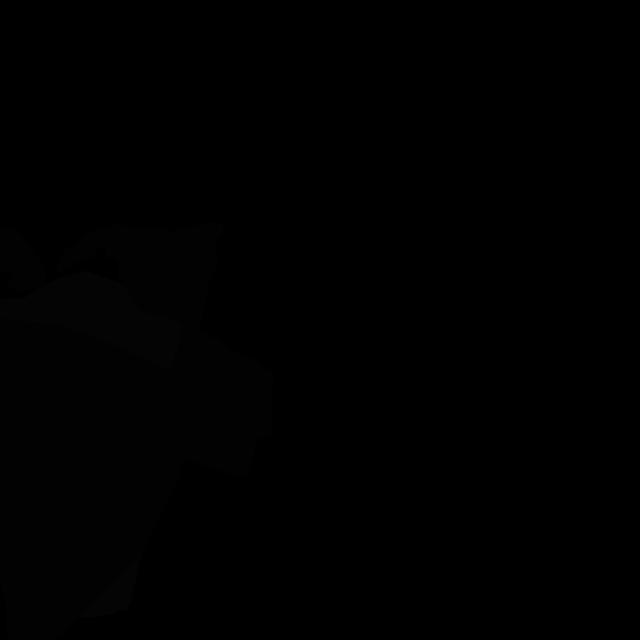cardboard: (0, 319, 210, 640), (130, 284, 274, 477), (56, 221, 223, 329), (0, 228, 47, 291)
soft_plastic: (0, 271, 182, 372), (80, 554, 141, 618)
